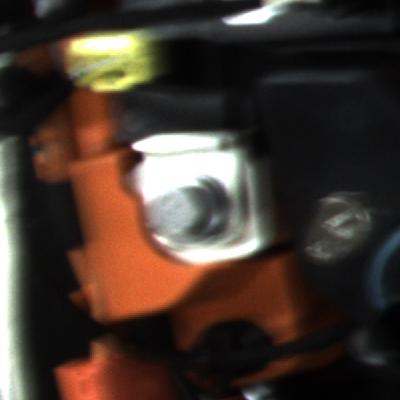nut_b: (148, 167, 239, 251)
